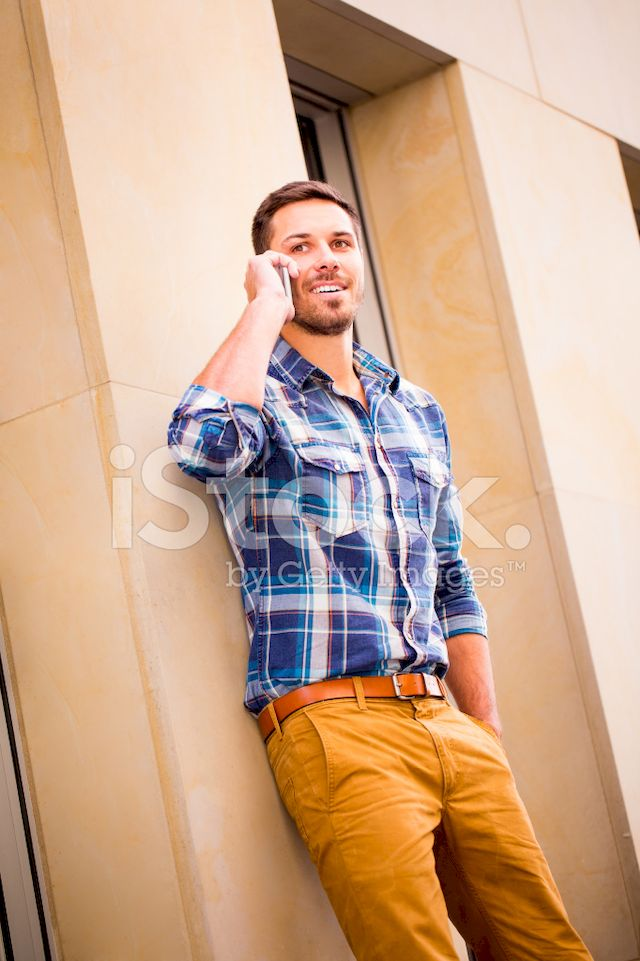phone: (260, 257, 307, 313)
talk: (244, 224, 367, 334)
